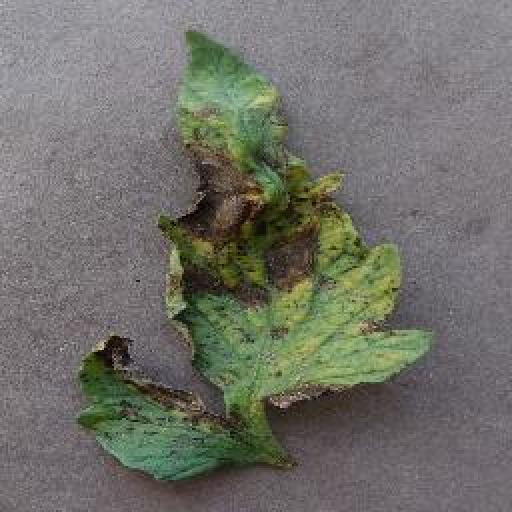Early Blight: (80, 26, 430, 482)
